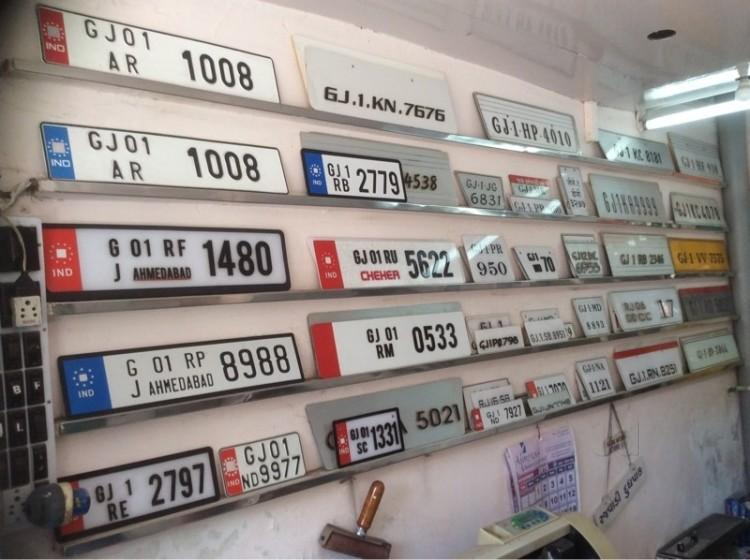inlp: (57, 317, 305, 433), (34, 116, 296, 201), (298, 146, 414, 205)
